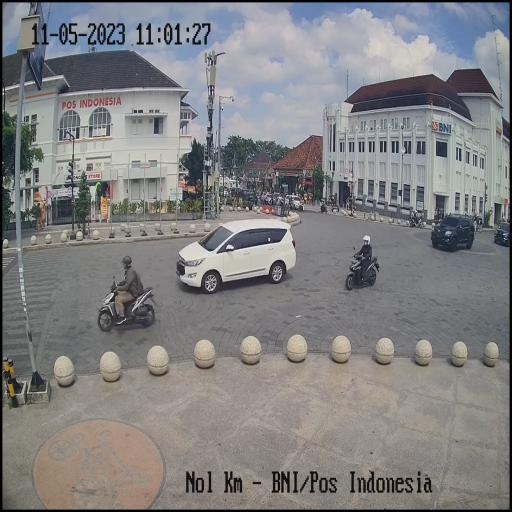mobil: (176, 214, 297, 296), (430, 210, 474, 252)
motor: (98, 272, 157, 333), (344, 250, 382, 291)
